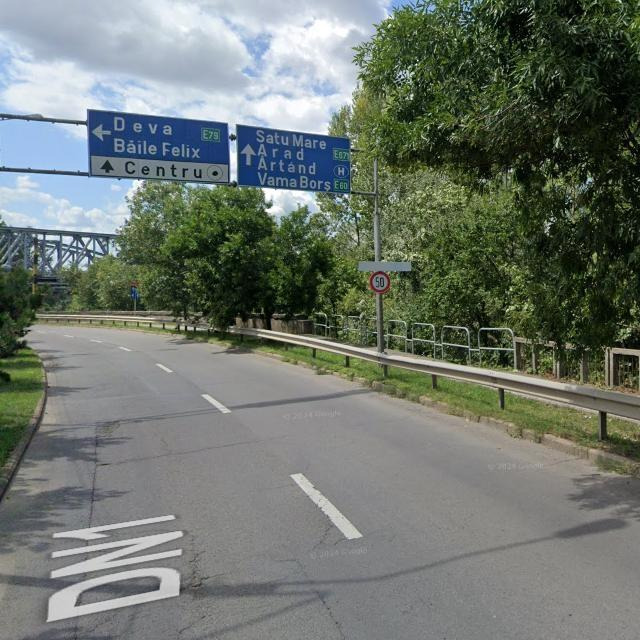forb_speed_over_50: (370, 272, 391, 294)
